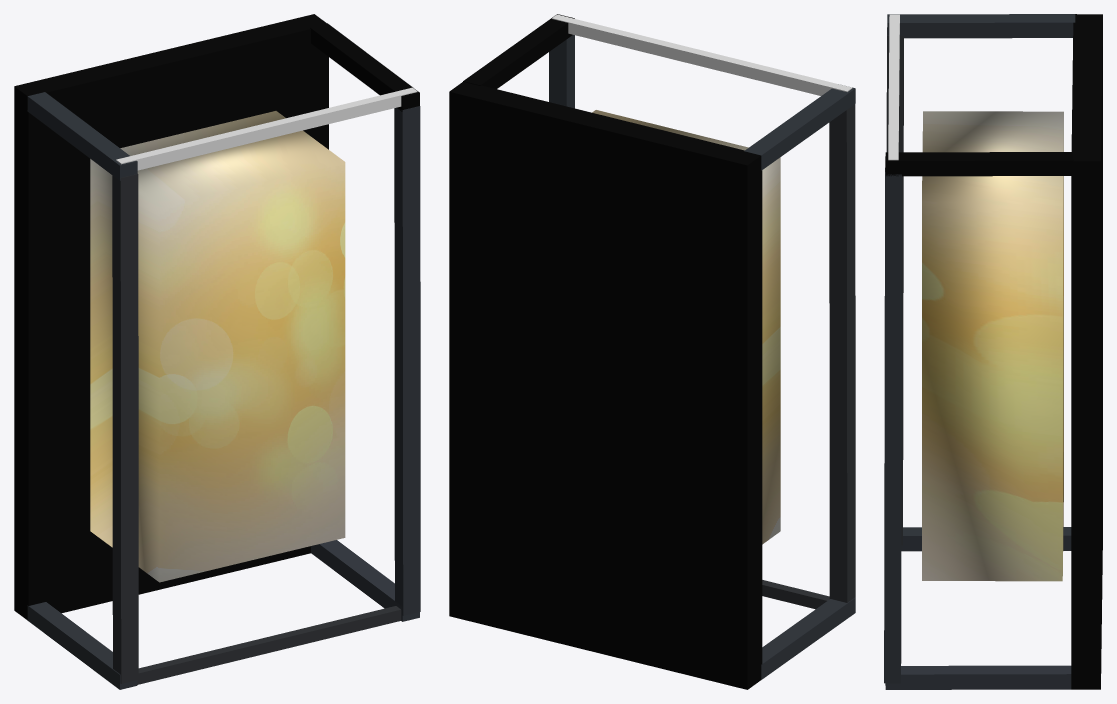
The model's file is Wall Lamp.fbx.
3 renders of one model, left to right at view 1: azimuth 30°, elevation 25°; view 2: azimuth 150°, elevation 25°; view 3: azimuth 270°, elevation 25°, orthographic.
Visible parts, largest first — view 1: Cube, Cube.001, Cube.006, Cube.007, Cube.009, Cube.008, Cube.002, Cube.005, Cube.003, Cube.004; view 2: Cube.001, Cube.007, Cube, Cube.009, Cube.002, Cube.005, Cube.003, Cube.006, Cube.008; view 3: Cube, Cube.001, Cube.006, Cube.005, Cube.002, Cube.004, Cube.007, Cube.009, Cube.003.
Boxes of the visible parts, x1,y1,x2,y2 form: Cube: (90, 111, 345, 582); Cube.001: (14, 14, 328, 619); Cube.006: (394, 106, 420, 615); Cube.007: (112, 173, 138, 683); Cube.009: (116, 87, 417, 170); Cube.008: (137, 606, 401, 684); Cube.002: (27, 92, 137, 180); Cube.005: (310, 23, 419, 111); Cube.003: (27, 602, 137, 689); Cube.004: (311, 540, 419, 621); Cube.001: (449, 82, 762, 689); Cube.007: (829, 104, 855, 602); Cube: (592, 110, 780, 544); Cube.009: (552, 14, 852, 95); Cube.002: (744, 87, 855, 170); Cube.005: (463, 14, 574, 88); Cube.003: (761, 597, 855, 679); Cube.006: (549, 35, 574, 108); Cube.008: (762, 580, 829, 609); Cube: (922, 111, 1063, 581); Cube.001: (1071, 14, 1102, 689); Cube.006: (884, 168, 901, 683); Cube.005: (885, 152, 1073, 176); Cube.002: (887, 14, 1075, 38); Cube.004: (885, 665, 1071, 689); Cube.007: (886, 27, 903, 545); Cube.009: (888, 14, 899, 160); Cube.003: (901, 527, 1071, 551).
Size of the model in its own units: 23.69 by 39.63 by 14.83.
10 materials, 1 textured.
